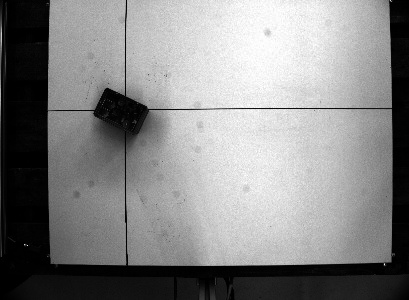kltxs: (91, 85, 151, 137)
